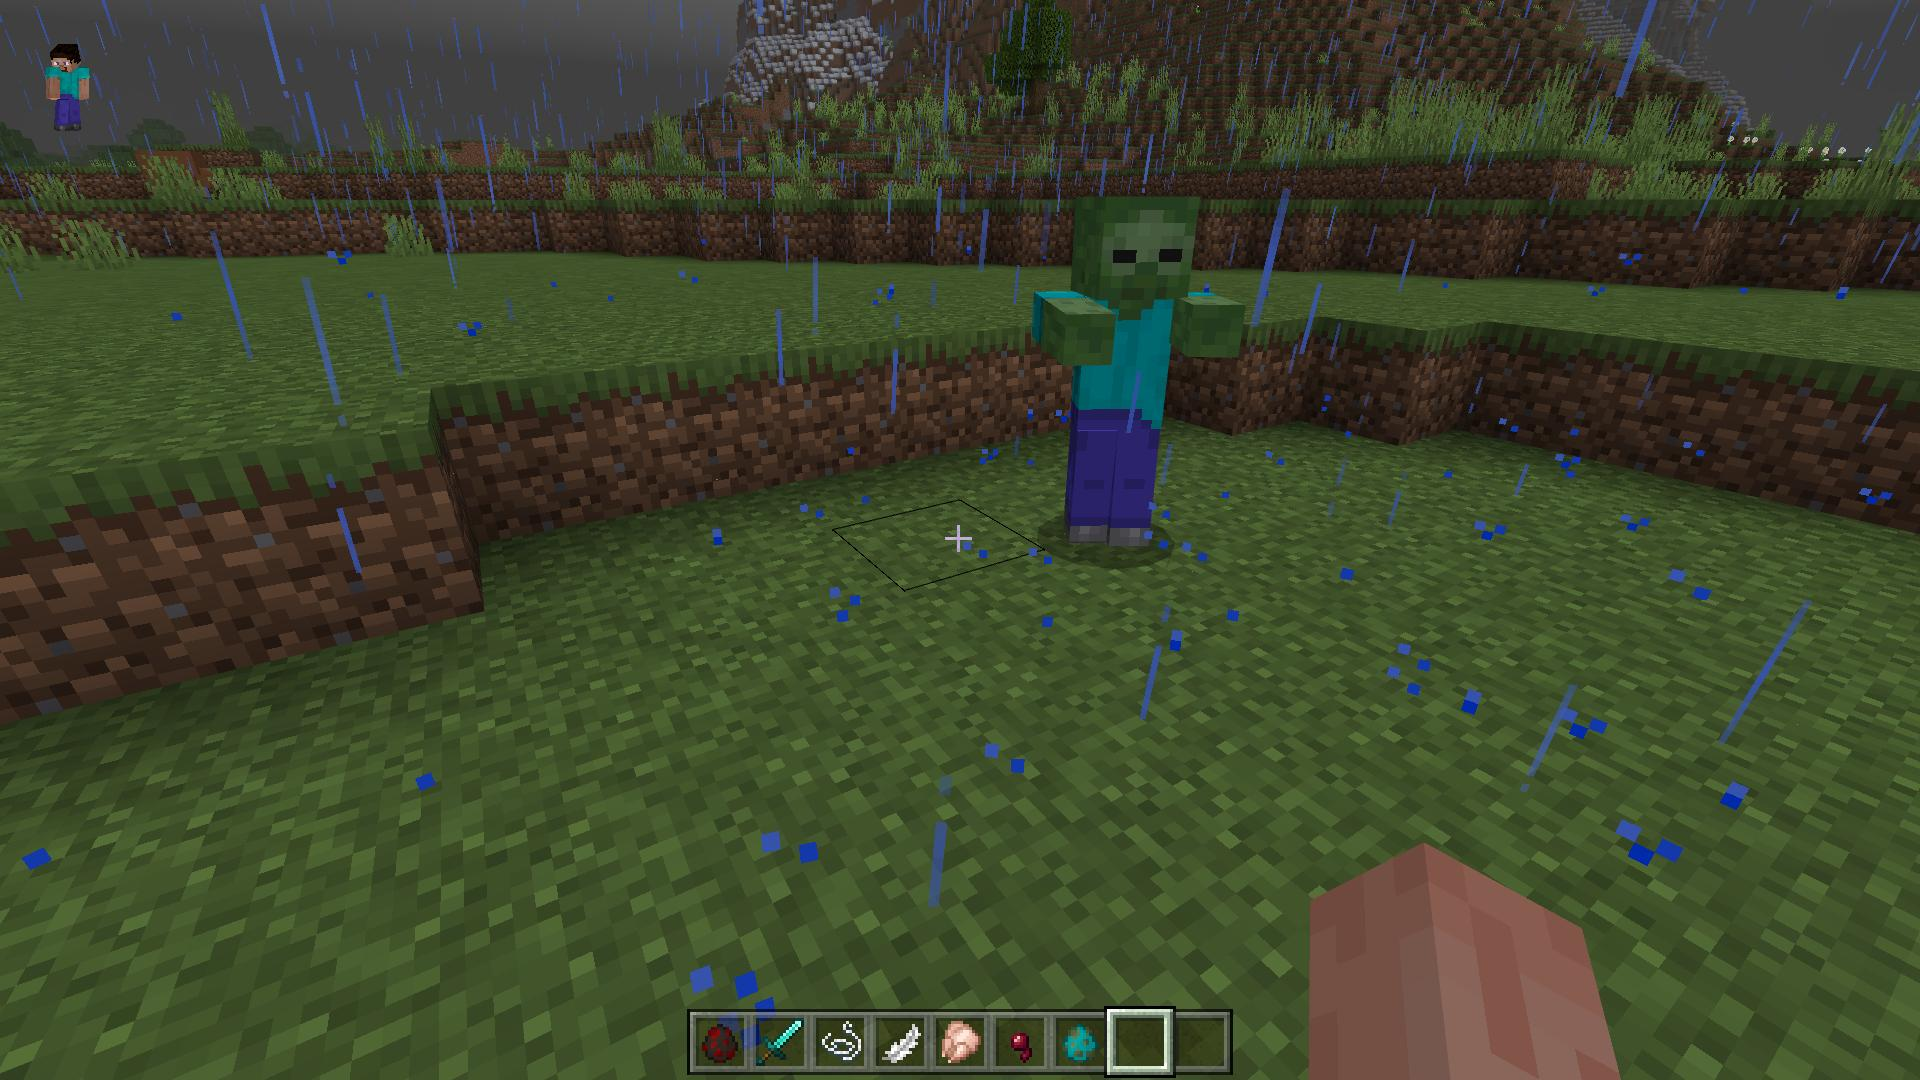zombie: (1038, 195, 1246, 558)
